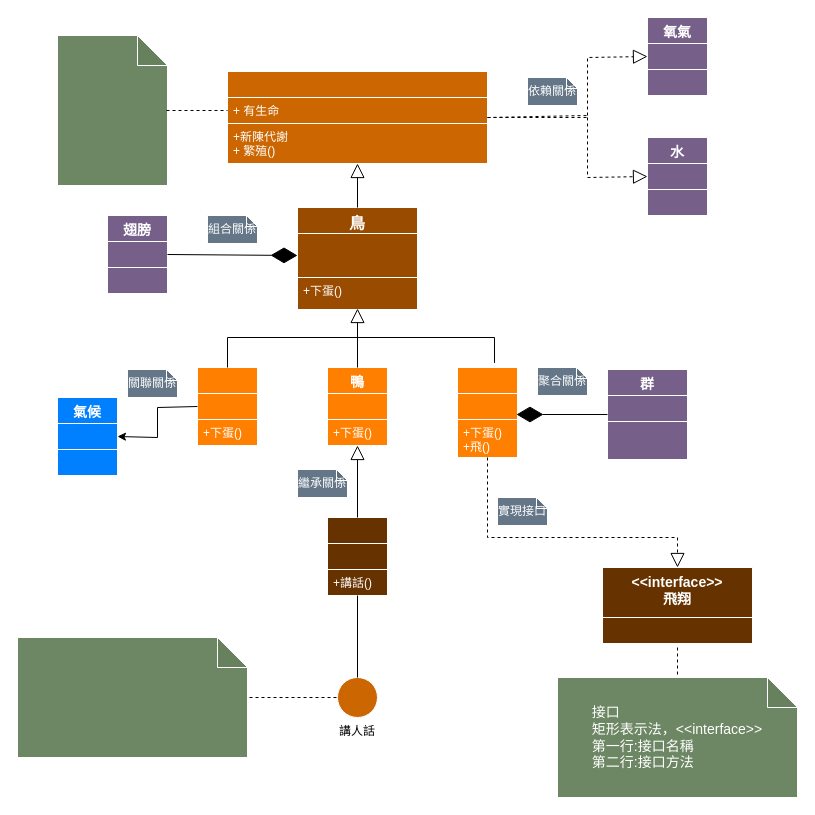
This 815x815 diagram has some shape labels left out. Here are the shapes that lost their labels. From the top down, the box of each, then its label:
(56, 34, 168, 186): 類 第一行:類名稱 第二行:屬性 第三行:方法 類名為斜體字則為抽象類
(226, 70, 488, 164): 動物
(296, 232, 418, 278): + 有羽毛 +有角質沒牙齒
(196, 366, 258, 446): 企鵝
(456, 366, 518, 458): 大雁
(606, 420, 688, 460): +V型飛行() +一班飛行()
(326, 516, 388, 596): 唐老鴨
(602, 616, 752, 644): +飛()
(16, 636, 248, 758): 接口 棒棒糖表示法 圓圈旁為接口名稱 接口方法在實現類出現
